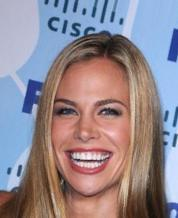face: (55, 97, 123, 176)
